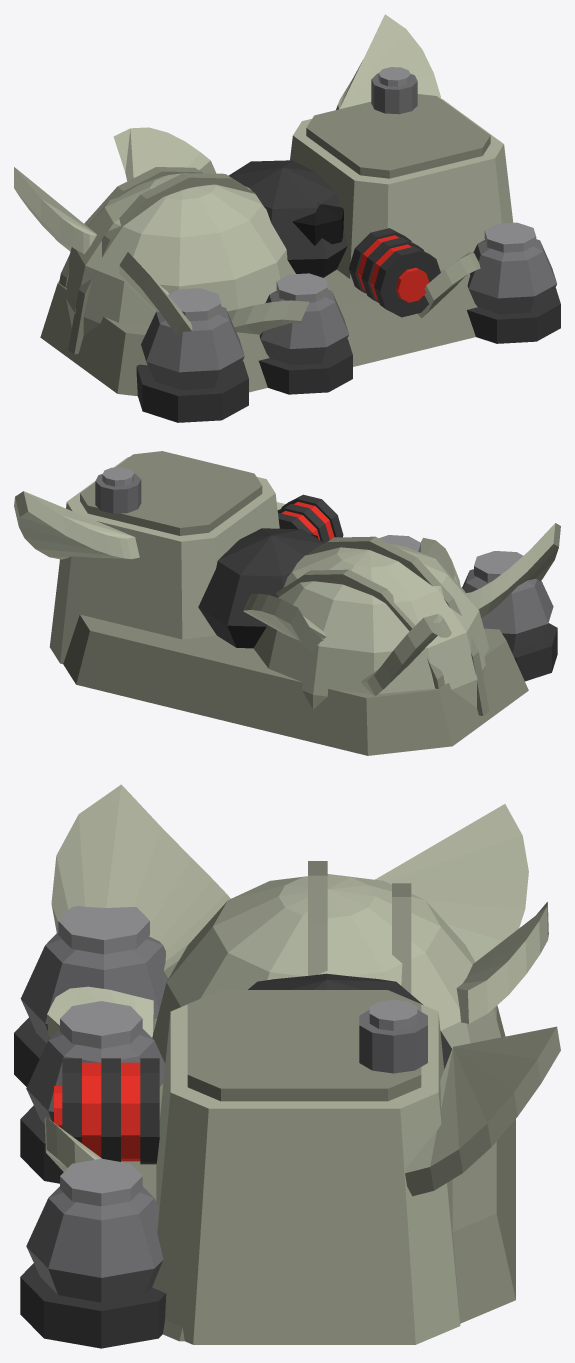
The model's file is exostrider_midsection.obj.
3 views of the same model, one above another, from view 1: azimuth 30°, elevation 25°; view 2: azimuth 150°, elevation 25°; view 3: azimuth 270°, elevation 25° (orthographic). The views are drawn at different scales.
Parts seen in each view (by area): view 1: exostrider_midsection_1, exostrider_midsection_6, exostrider_midsection_0, exostrider_midsection_7, exostrider_midsection_4, exostrider_midsection_17, exostrider_midsection_23, exostrider_midsection_20, exostrider_midsection_16, exostrider_midsection_25, exostrider_midsection_30, exostrider_midsection_3 (+17 smaller); view 2: exostrider_midsection_0, exostrider_midsection_1, exostrider_midsection_6, exostrider_midsection_7, exostrider_midsection_4, exostrider_midsection_25, exostrider_midsection_17, exostrider_midsection_26, exostrider_midsection_3, exostrider_midsection_27, exostrider_midsection_30, exostrider_midsection_2 (+9 smaller); view 3: exostrider_midsection_6, exostrider_midsection_1, exostrider_midsection_7, exostrider_midsection_26, exostrider_midsection_25, exostrider_midsection_27, exostrider_midsection_23, exostrider_midsection_0, exostrider_midsection_17, exostrider_midsection_22, exostrider_midsection_30, exostrider_midsection_20 (+17 smaller).
Boxes of the visible parts, x1,y1,x2,y2 form: exostrider_midsection_1: (66, 173, 295, 335); exostrider_midsection_6: (290, 99, 513, 279); exostrider_midsection_0: (40, 269, 477, 396); exostrider_midsection_7: (306, 94, 490, 178); exostrider_midsection_4: (228, 160, 347, 277); exostrider_midsection_17: (141, 306, 244, 390); exostrider_midsection_23: (467, 239, 556, 314); exostrider_midsection_20: (259, 290, 348, 365); exostrider_midsection_16: (136, 361, 248, 422); exostrider_midsection_25: (336, 14, 441, 109); exostrider_midsection_30: (113, 127, 216, 181); exostrider_midsection_3: (68, 173, 255, 354); exostrider_midsection_0: (63, 614, 528, 755); exostrider_midsection_1: (253, 544, 489, 709); exostrider_midsection_6: (49, 457, 279, 663); exostrider_midsection_7: (80, 451, 262, 535); exostrider_midsection_4: (198, 528, 324, 648); exostrider_midsection_25: (14, 491, 139, 559); exostrider_midsection_17: (462, 569, 553, 651); exostrider_midsection_26: (465, 523, 560, 617); exostrider_midsection_3: (306, 536, 489, 715); exostrider_midsection_27: (361, 614, 451, 696); exostrider_midsection_30: (243, 593, 326, 653); exostrider_midsection_2: (275, 569, 444, 689); exostrider_midsection_6: (152, 1004, 460, 1344); exostrider_midsection_1: (152, 874, 500, 1063); exostrider_midsection_7: (187, 990, 421, 1101); exostrider_midsection_26: (51, 784, 230, 978); exostrider_midsection_25: (405, 1026, 560, 1196); exostrider_midsection_27: (375, 804, 528, 961); exostrider_midsection_23: (26, 1186, 163, 1302); exostrider_midsection_0: (121, 1005, 515, 1341); exostrider_midsection_17: (20, 933, 168, 1043); exostrider_midsection_22: (20, 1263, 166, 1348); exostrider_midsection_30: (456, 902, 548, 1023); exostrider_midsection_20: (26, 1029, 165, 1123).
Bounding box in the file's own units: 2.75 × 1.2 × 1.97.
